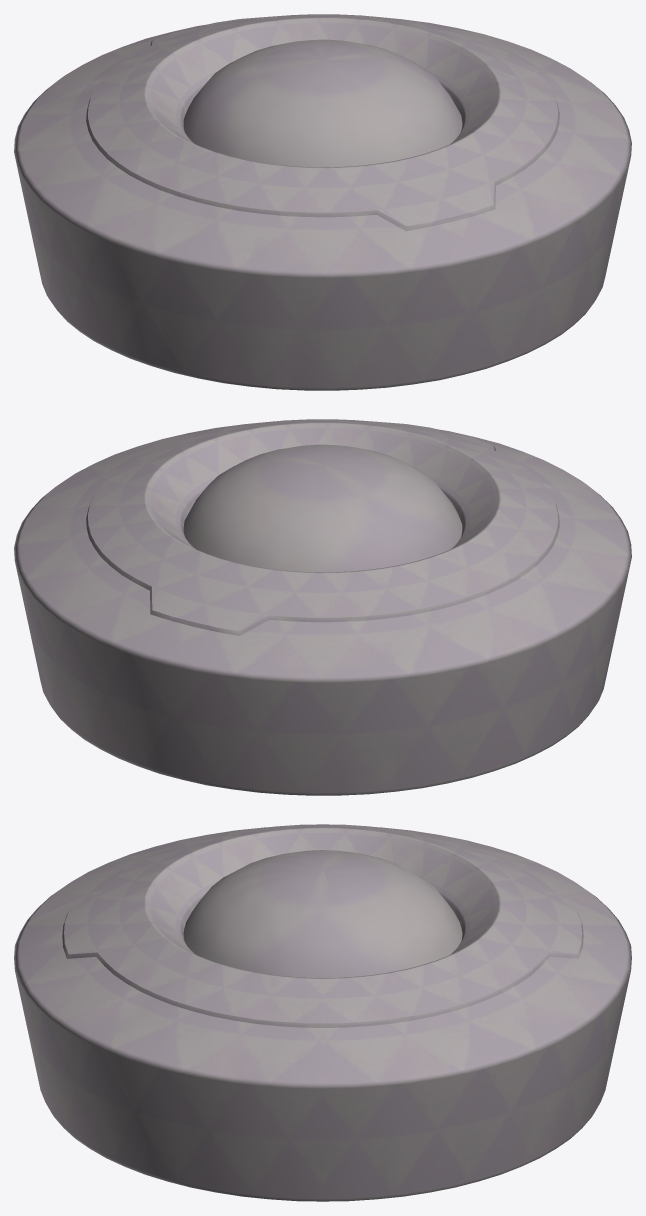
The model's file is pref_sm_beach_bk_pointmol_topbuild01_lv2.fbx.
The picture shows the model from 3 angles, top to bottom: view 1: azimuth 30°, elevation 25°; view 2: azimuth 150°, elevation 25°; view 3: azimuth 270°, elevation 25°; orthographic projection.
Visible parts, largest first — view 1: pref_sm_beach_bk_pointmol_topbuild01_lv2; view 2: pref_sm_beach_bk_pointmol_topbuild01_lv2; view 3: pref_sm_beach_bk_pointmol_topbuild01_lv2.
Boxes of the visible parts, <box> form: pref_sm_beach_bk_pointmol_topbuild01_lv2: <box>14,14,631,390</box>; pref_sm_beach_bk_pointmol_topbuild01_lv2: <box>14,419,631,795</box>; pref_sm_beach_bk_pointmol_topbuild01_lv2: <box>14,824,631,1201</box>.
Bounding box in the file's own units: 27.09 × 10.25 × 27.05.
